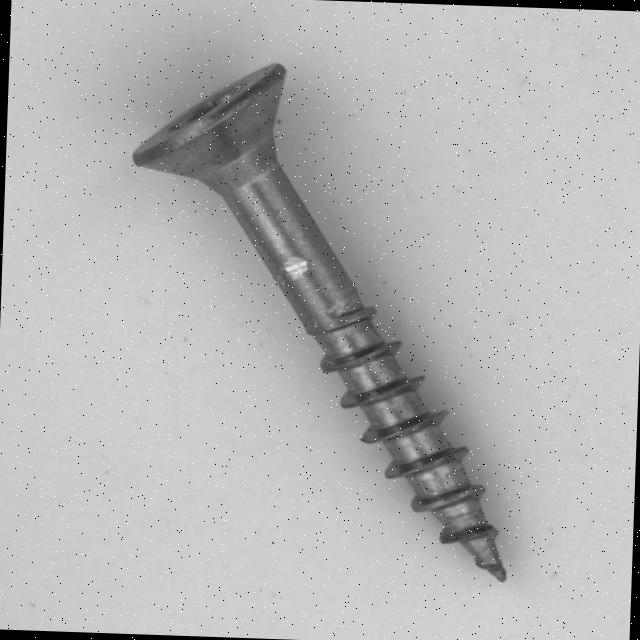scratch_neck: (280, 252, 310, 284)
